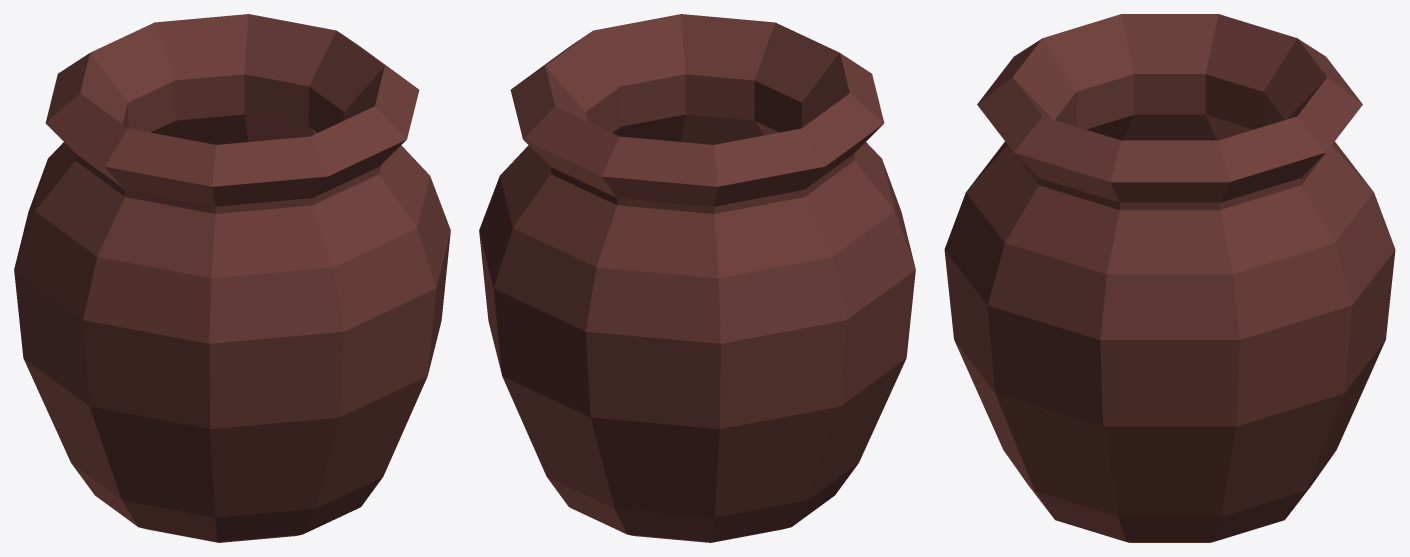
The model's file is Small_Pot_v001.fbx.
3 views of the same model, side by side, from view 1: azimuth 30°, elevation 25°; view 2: azimuth 150°, elevation 25°; view 3: azimuth 270°, elevation 25° (orthographic).
Visible parts, largest first — view 1: Cylinder; view 2: Cylinder; view 3: Cylinder.
Boxes of the visible parts, <box> form: Cylinder: <box>14,14,450,542</box>; Cylinder: <box>479,14,915,542</box>; Cylinder: <box>944,14,1395,542</box>.
Bounding box in the file's own units: 189 × 201 × 199.
